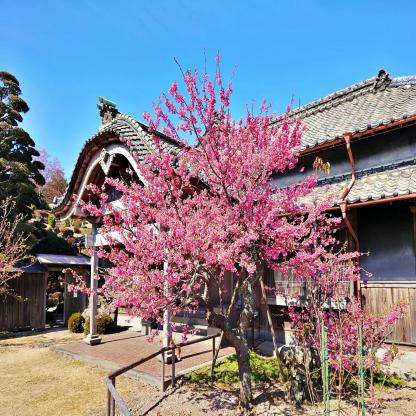KanhiSakura: (61, 49, 373, 400)
